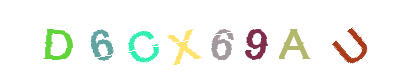6: (61, 0, 141, 80), (143, 0, 223, 80)
9: (160, 0, 240, 80)
A: (220, 0, 300, 80)
C: (102, 0, 182, 80)
D: (17, 0, 97, 80)
U: (264, 0, 344, 80)
X: (136, 0, 216, 80)
